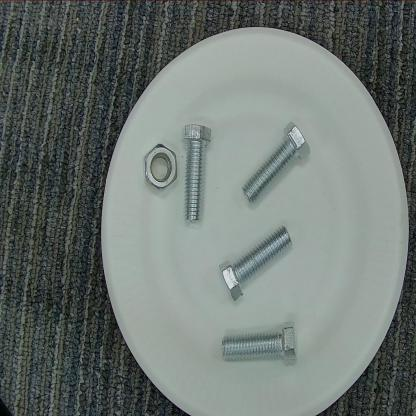FOD: (238, 124, 320, 204), (217, 224, 297, 303), (217, 317, 307, 367), (177, 124, 219, 225), (144, 140, 178, 194)
